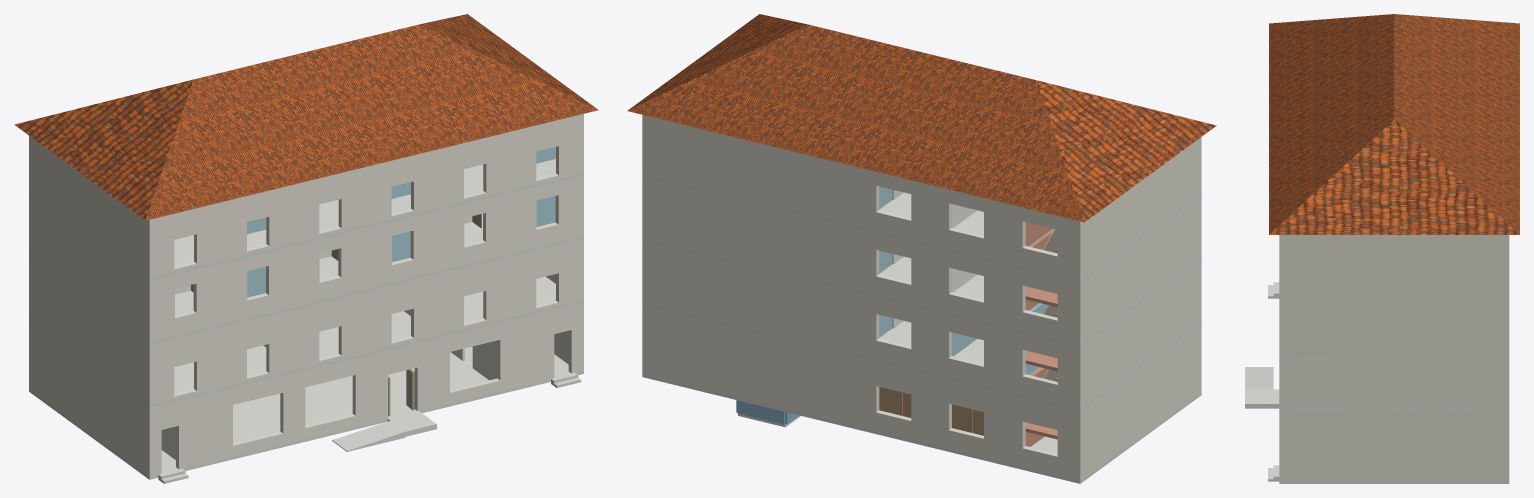
The model's file is proposed-structure.glb.
3 renders of one model, left to right at view 1: azimuth 30°, elevation 25°; view 2: azimuth 150°, elevation 25°; view 3: azimuth 270°, elevation 25°, orthographic. The views are drawn at different scales.
Visible parts, largest first — view 1: EXISTING_PITCHED_ROOF, L2_shell, L1_shell, G_shell, L3_shell, G_slab, L1_slab, L3_slab, L2_slab, L2_wet, G_partition, L3_wet; view 2: EXISTING_PITCHED_ROOF, G_shell, L1_shell, L2_shell, L3_shell, L3_slab, L2_slab, L1_slab, G_slab, G_bar, L1_wet, G_lift; view 3: EXISTING_PITCHED_ROOF, G_shell, L1_shell, L2_shell, L3_shell, G_slab, L1_slab, L3_slab, L2_slab.
Boxes of the visible parts, x1,y1,x2,y2 form: EXISTING_PITCHED_ROOF: (14, 14, 598, 220); L2_shell: (29, 175, 583, 341); L1_shell: (29, 239, 583, 405); G_shell: (29, 302, 583, 476); L3_shell: (29, 114, 583, 277); G_slab: (29, 346, 583, 483); L1_slab: (29, 276, 583, 408); L3_slab: (29, 159, 583, 281); L2_slab: (29, 213, 583, 344); L2_wet: (247, 196, 555, 297); G_partition: (161, 340, 497, 459); L3_wet: (247, 147, 555, 234); EXISTING_PITCHED_ROOF: (627, 14, 1216, 222); G_shell: (642, 305, 1201, 480); L1_shell: (642, 241, 1201, 408); L2_shell: (642, 177, 1201, 344); L3_shell: (642, 115, 1201, 280); L3_slab: (642, 173, 1201, 283); L2_slab: (642, 238, 1201, 347); L1_slab: (642, 302, 1201, 411); G_slab: (642, 374, 1201, 483); G_bar: (879, 386, 983, 435); L1_wet: (879, 303, 1047, 374); G_lift: (736, 400, 799, 424); EXISTING_PITCHED_ROOF: (1269, 14, 1519, 234); G_shell: (1279, 416, 1509, 480); L1_shell: (1279, 355, 1509, 412); L2_shell: (1279, 294, 1509, 351); L3_shell: (1279, 235, 1509, 291); G_slab: (1245, 282, 1509, 483); L1_slab: (1279, 412, 1509, 415); L3_slab: (1279, 291, 1509, 294); L2_slab: (1279, 352, 1509, 354).
Size of the model in its own units: 26.1 by 19.2 by 14.35.
12 materials, 1 textured.
